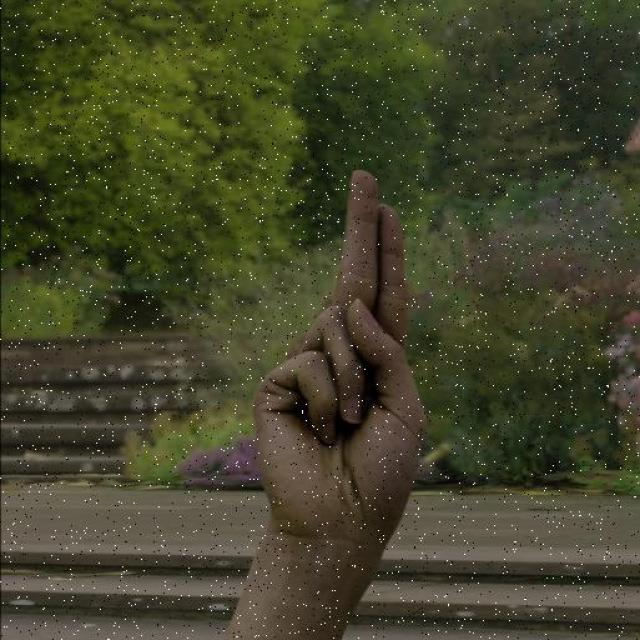U: (250, 163, 422, 576)
